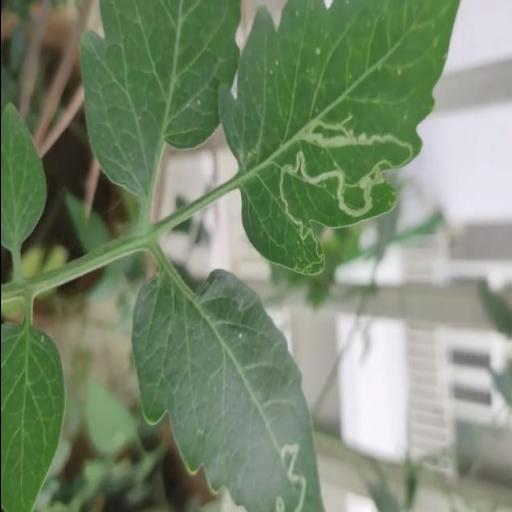Leaf Miner: (215, 0, 458, 278), (130, 265, 326, 512)
